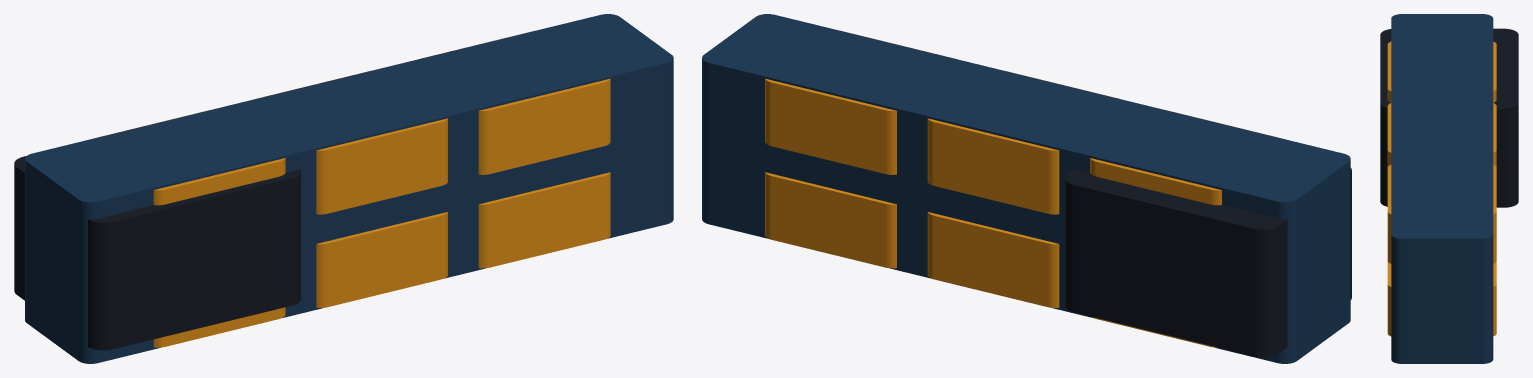
Rendered from HR30_robot_five_branch_distributor_candidate.glb.
3 views of the same model, side by side, from view 1: azimuth 30°, elevation 25°; view 2: azimuth 150°, elevation 25°; view 3: azimuth 270°, elevation 25° (orthographic). The views are drawn at different scales.
Visible parts, largest first — view 1: INSULATED_DISTRIBUTION_ENCLOSURE, XT1B_SBS75G, FB5_CORE, FB2_RLEG, FB4_DISTAL, FB1_LLEG, FB3_ARMS, FM0_MAIN; view 2: INSULATED_DISTRIBUTION_ENCLOSURE, XT1B_SBS75G, FB4_DISTAL, FB1_LLEG, FB5_CORE, FB2_RLEG, FB3_ARMS; view 3: INSULATED_DISTRIBUTION_ENCLOSURE, XT1B_SBS75G, FB5_CORE, FB2_RLEG, FB4_DISTAL, FB3_ARMS.
Boxes of the visible parts, x1,y1,x2,y2 form: INSULATED_DISTRIBUTION_ENCLOSURE: (25, 14, 673, 363); XT1B_SBS75G: (14, 156, 300, 350); FB5_CORE: (421, 31, 610, 174); FB2_RLEG: (478, 172, 610, 268); FB4_DISTAL: (257, 70, 447, 214); FB1_LLEG: (316, 212, 447, 307); FB3_ARMS: (93, 110, 285, 205); FM0_MAIN: (153, 307, 285, 347); INSULATED_DISTRIBUTION_ENCLOSURE: (702, 14, 1350, 363); XT1B_SBS75G: (1065, 168, 1351, 357); FB4_DISTAL: (927, 70, 1118, 214); FB1_LLEG: (927, 212, 1059, 307); FB5_CORE: (765, 31, 955, 174); FB2_RLEG: (765, 172, 896, 268); FB3_ARMS: (1090, 110, 1280, 205); INSULATED_DISTRIBUTION_ENCLOSURE: (1391, 14, 1493, 363); XT1B_SBS75G: (1380, 28, 1518, 207); FB5_CORE: (1387, 164, 1496, 263); FB2_RLEG: (1387, 261, 1496, 336); FB4_DISTAL: (1387, 103, 1496, 166); FB3_ARMS: (1387, 41, 1496, 102).
Bounding box in the file's own units: 146 × 38 × 38.
